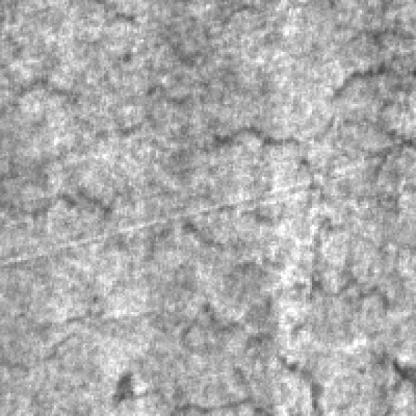crazing: (35, 256, 387, 397), (114, 44, 412, 210), (4, 120, 333, 248)
